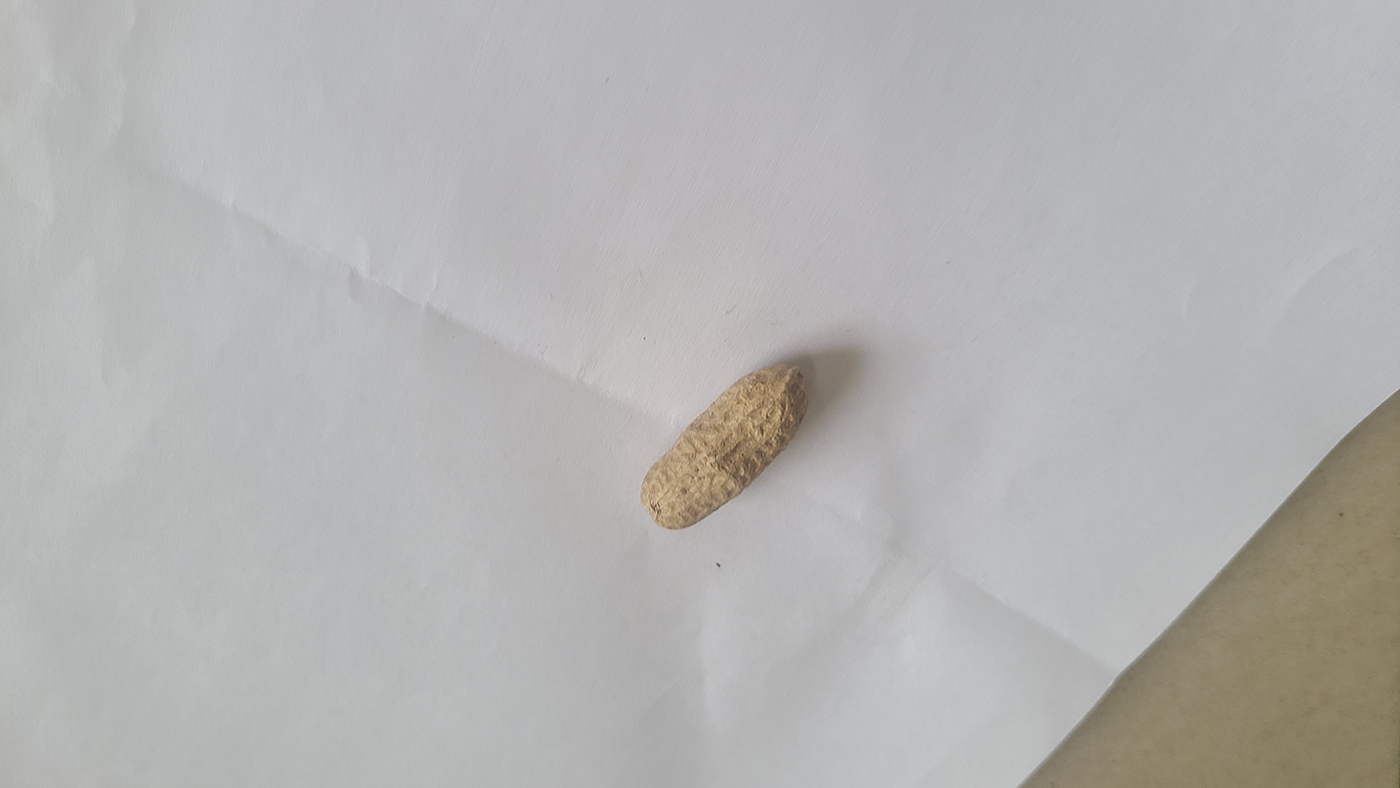h: (637, 364, 810, 530)
